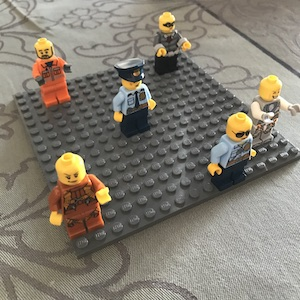Lego: (45, 151, 112, 236), (111, 56, 156, 138), (209, 112, 255, 189), (250, 72, 290, 149), (31, 38, 73, 106), (153, 12, 190, 73)
